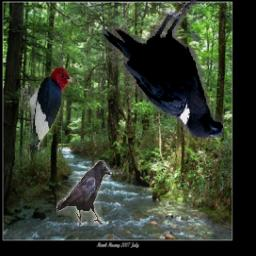Crow: (102, 0, 224, 138), (57, 161, 111, 227)
Woodpecker: (21, 66, 77, 162)
